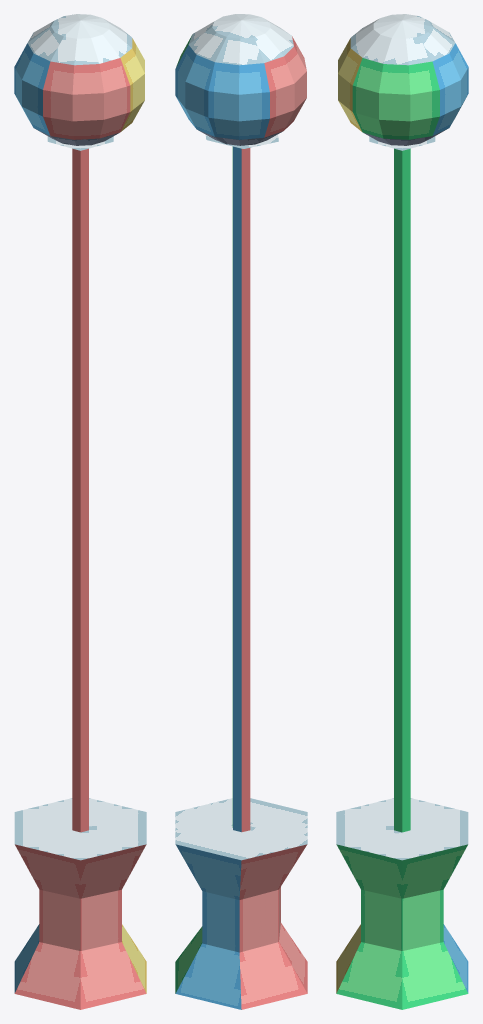
Rendered from poste.gltf.
The picture shows the model from 3 angles, left to right: view 1: azimuth 90°, elevation 25°; view 2: azimuth 150°, elevation 25°; view 3: azimuth 270°, elevation 25°; orthographic projection.
Parts seen in each view (by area): view 1: cylinder, sphere; view 2: cylinder, sphere; view 3: cylinder, sphere.
Boxes of the visible parts, x1,y1,x2,y2 form: cylinder: (14,136,146,1009); sphere: (14,14,144,145); cylinder: (175,134,307,1009); sphere: (175,14,306,145); cylinder: (336,136,468,1009); sphere: (338,14,468,145).
Bounding box in the file's own units: 1.15 × 8 × 1.
Materials: 1 (1 with a texture image).
